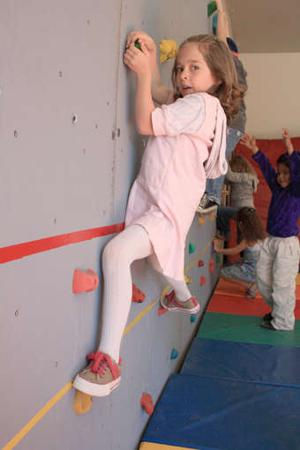person: (72, 27, 236, 400)
